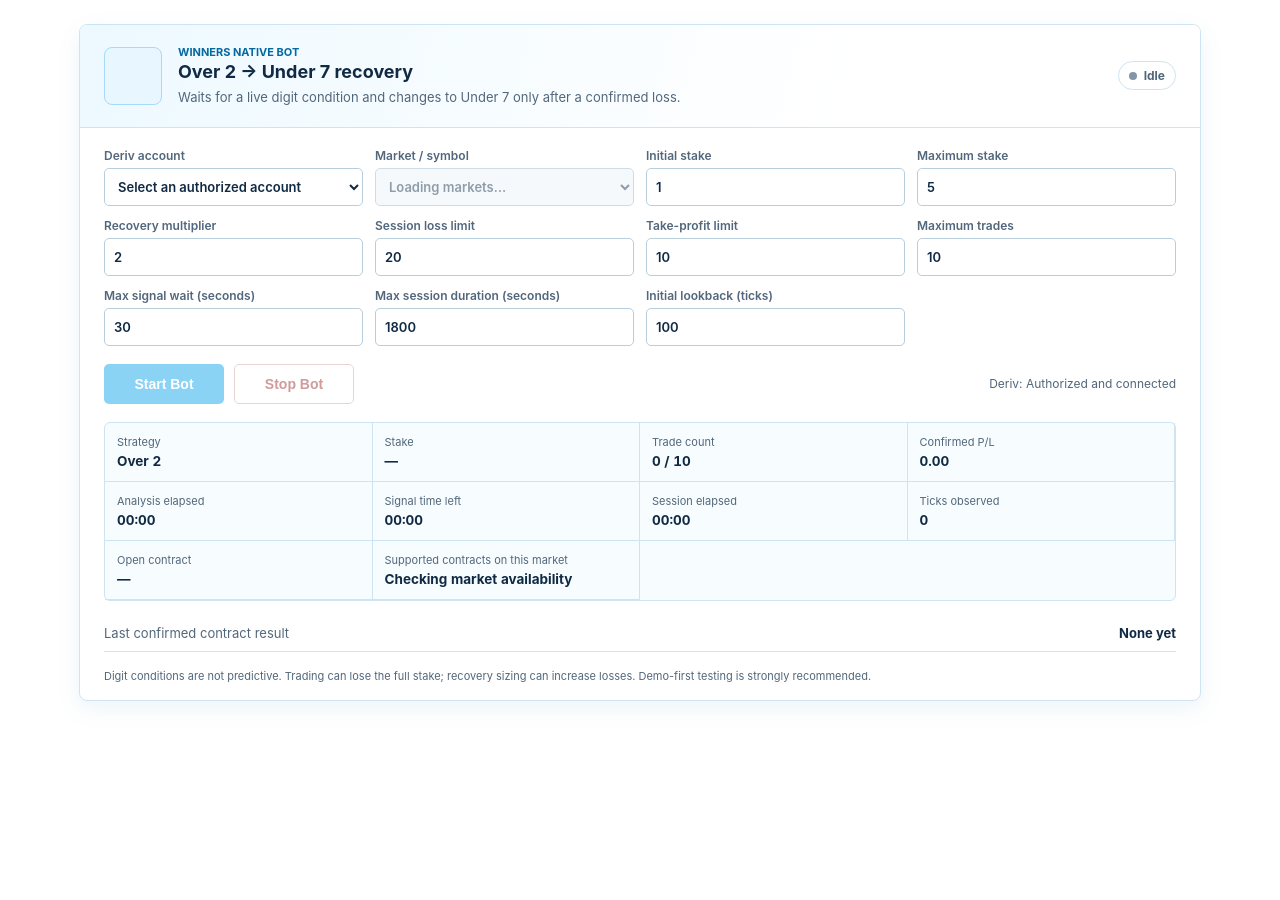
Test: native bot dashboard panel › starts the native demo bot using discovered market data and exposes Stop
Select "Demo · VRTC123" in the dropdown labelled "Deriv account": (234, 187) [104, 168, 363, 206]
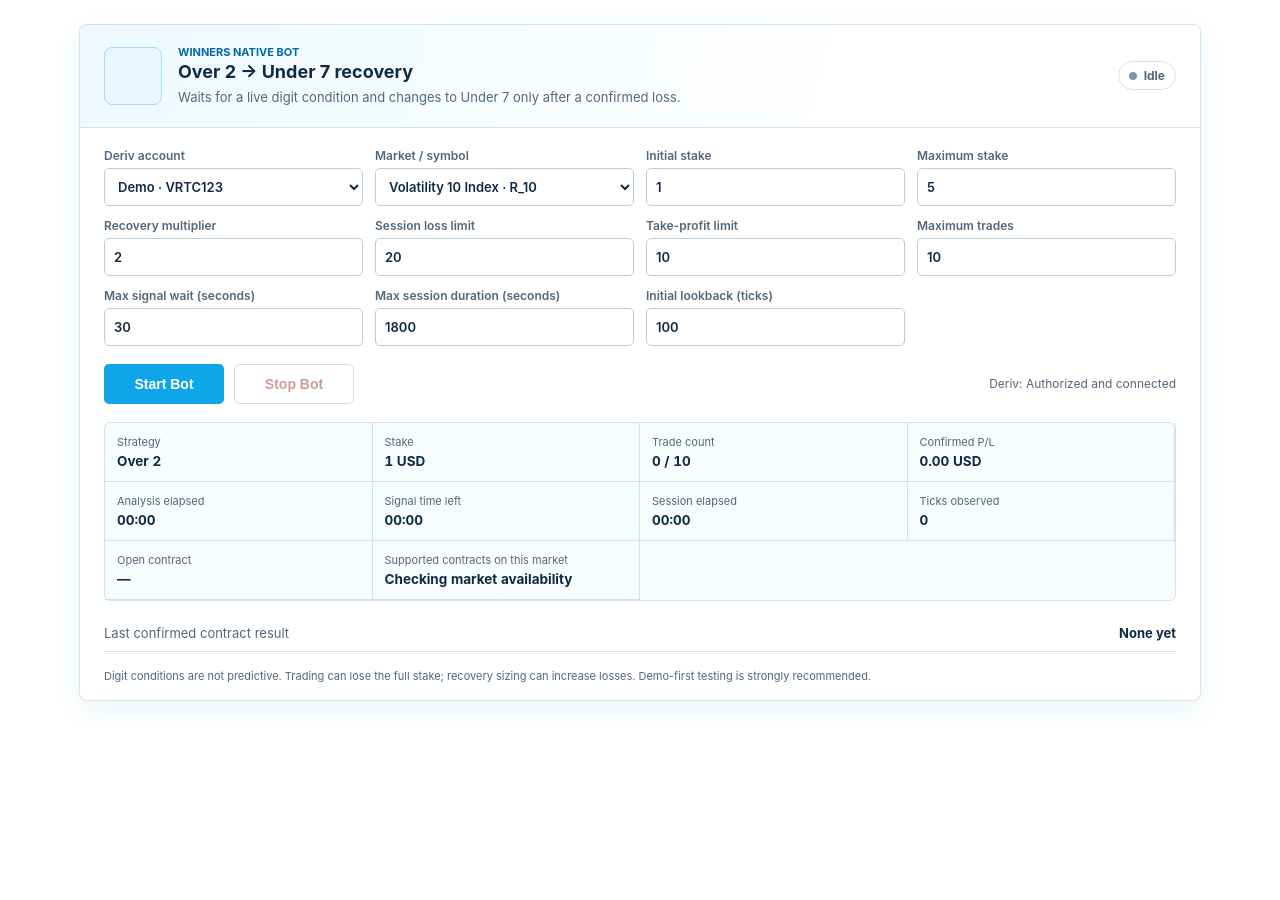
Click the button "Start Bot": (164, 384) [104, 364, 224, 404]
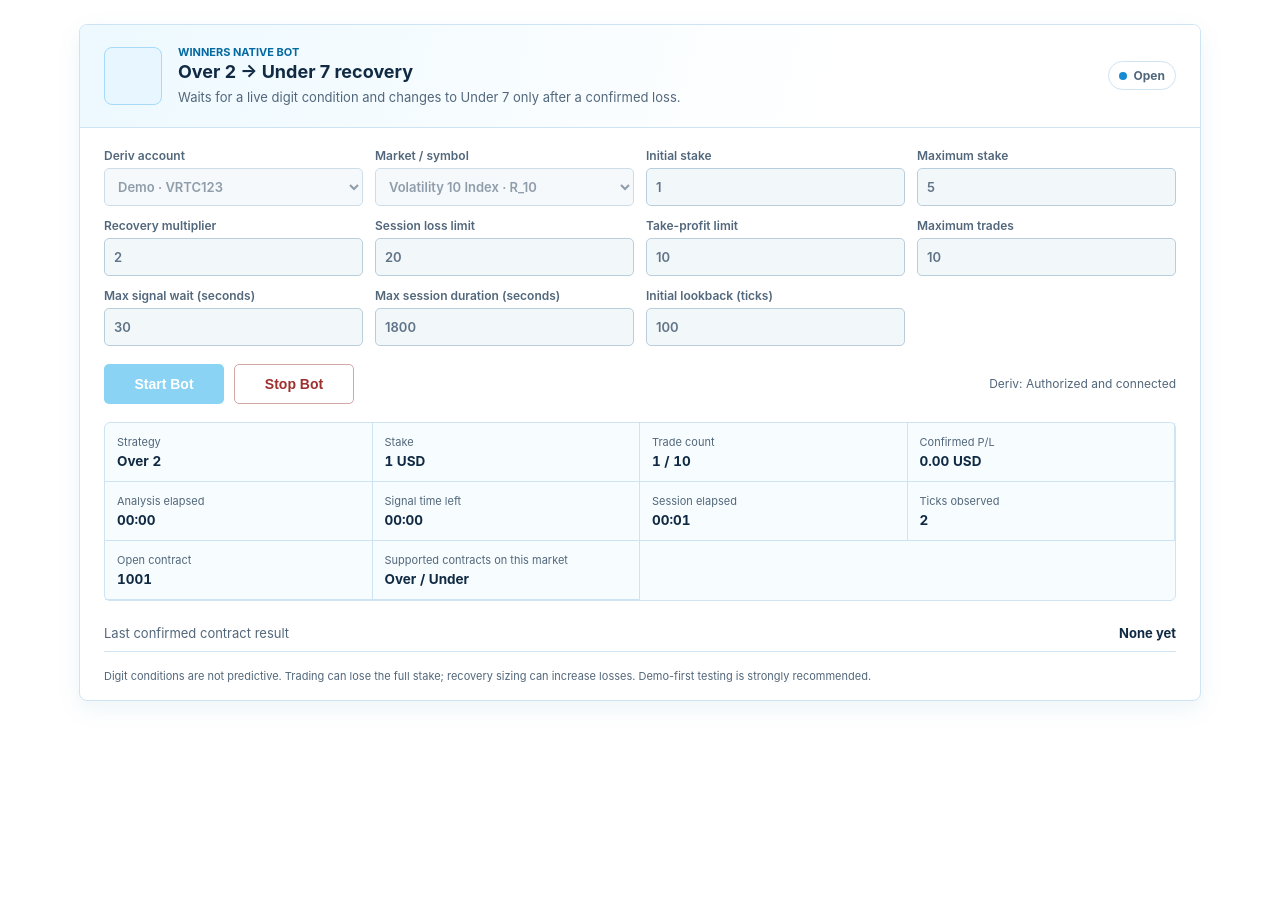
Expected: the text "Open" is shown, [1108, 61, 1176, 90]
Expected: the button "Stop Bot" is enabled, [234, 364, 354, 404]
